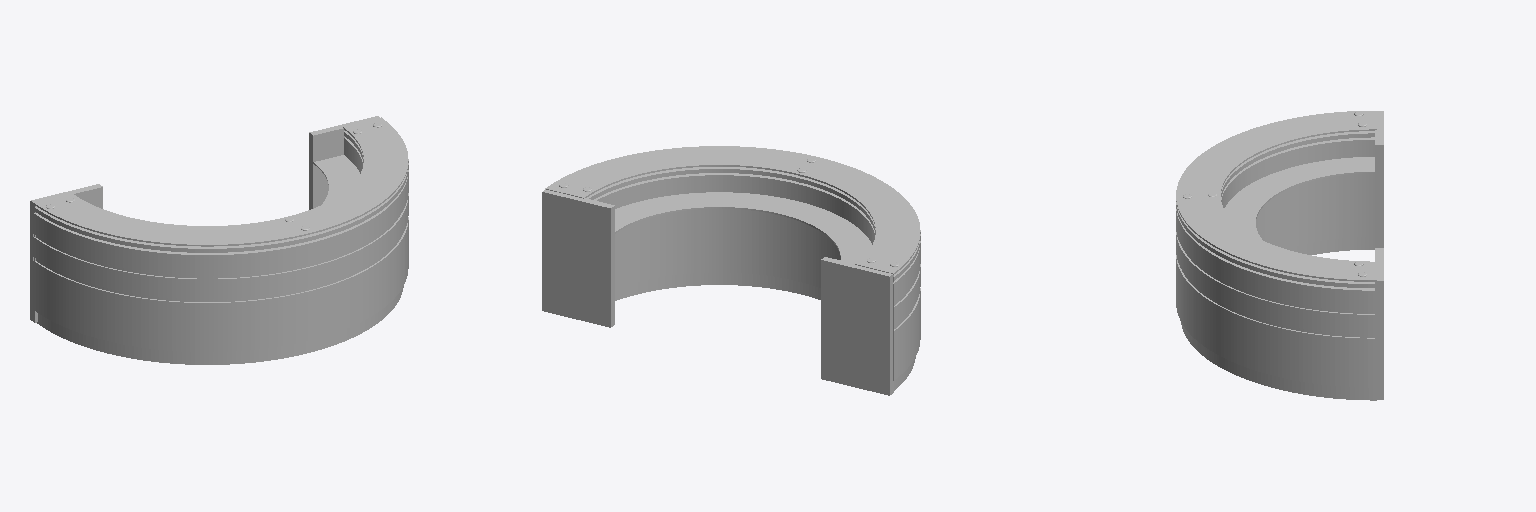
Rendered from studio.obj.
3 views of the same model, side by side, from view 1: azimuth 30°, elevation 25°; view 2: azimuth 150°, elevation 25°; view 3: azimuth 270°, elevation 25° (orthographic).
Parts seen in each view (by area): view 1: Sweep.5, Sweep.3, Sweep.2, Sweep, Cube.1, Sweep.4, Cube; view 2: Sweep.5, Sweep.3, Cube.1, Cube, Sweep.4, Sweep.2, Sweep; view 3: Sweep.5, Sweep.3, Sweep.4, Sweep.2, Sweep, Cube, Cube.1.
Boxes of the visible parts, <box> form: Sweep.5: <box>33,137,408,351</box>; Sweep.3: <box>33,117,408,246</box>; Sweep.2: <box>37,286,403,364</box>; Sweep: <box>33,131,408,252</box>; Cube.1: <box>309,116,379,209</box>; Sweep.4: <box>313,155,359,204</box>; Cube: <box>30,184,102,322</box>; Sweep.5: <box>594,173,920,380</box>; Sweep.3: <box>545,146,920,273</box>; Cube.1: <box>542,189,614,327</box>; Cube: <box>821,257,893,395</box>; Sweep.4: <box>614,192,871,263</box>; Sweep.2: <box>615,272,915,390</box>; Sweep: <box>587,167,920,280</box>; Sweep.5: <box>1176,137,1376,387</box>; Sweep.3: <box>1176,111,1376,281</box>; Sweep.4: <box>1224,157,1374,239</box>; Sweep.2: <box>1181,237,1376,400</box>; Sweep: <box>1176,131,1376,287</box>; Cube: <box>1375,111,1383,247</box>; Cube.1: <box>1375,248,1383,399</box>.
Size of the model in its own units: 450 by 152 by 233.